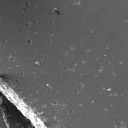corrosion: (51, 8, 63, 16), (26, 38, 34, 45), (51, 99, 59, 106), (69, 44, 76, 51), (24, 20, 31, 27), (34, 59, 40, 67), (1, 37, 8, 43), (106, 86, 112, 93), (73, 89, 80, 94), (32, 18, 37, 24), (22, 7, 27, 13), (19, 72, 24, 77), (72, 62, 78, 66)
